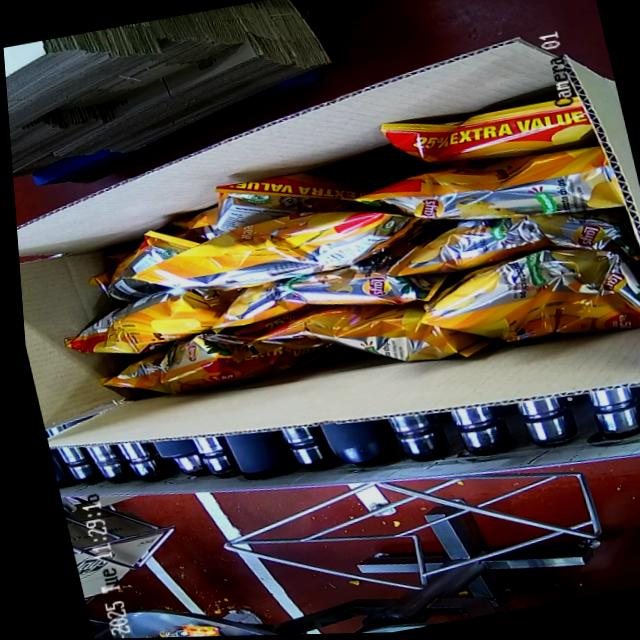FRENCH_CHEESE: (49, 84, 640, 418)
